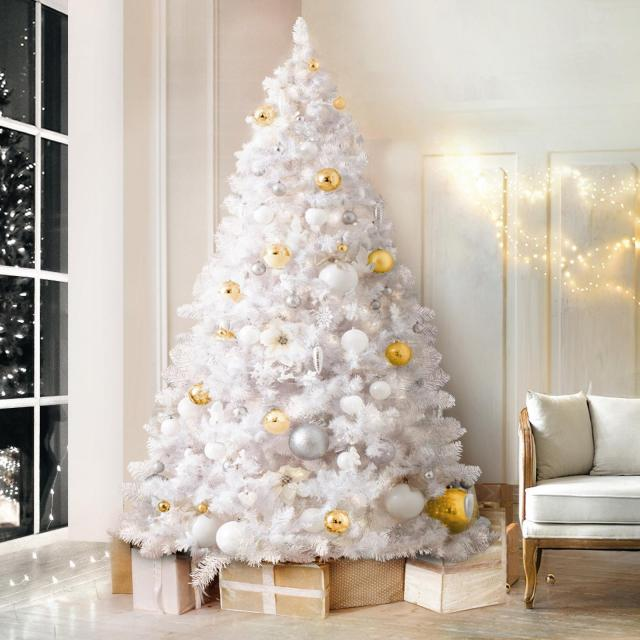Christmas-tree: (94, 4, 508, 564)
